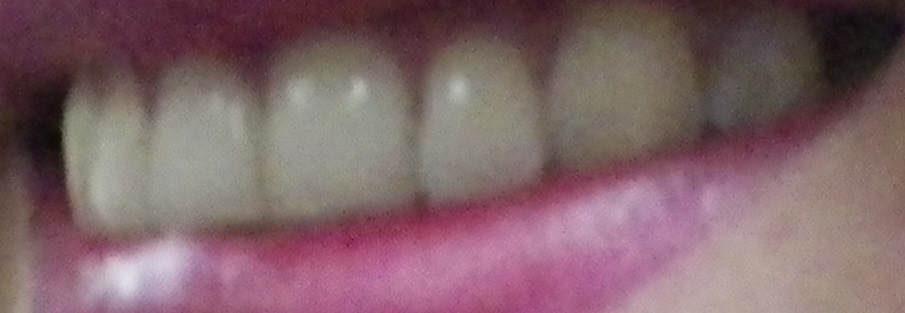boca: (55, 11, 833, 233)
